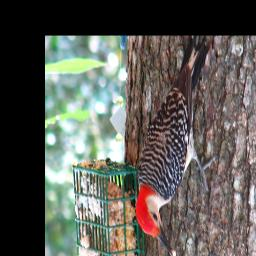Woodpecker: (135, 37, 220, 256)
